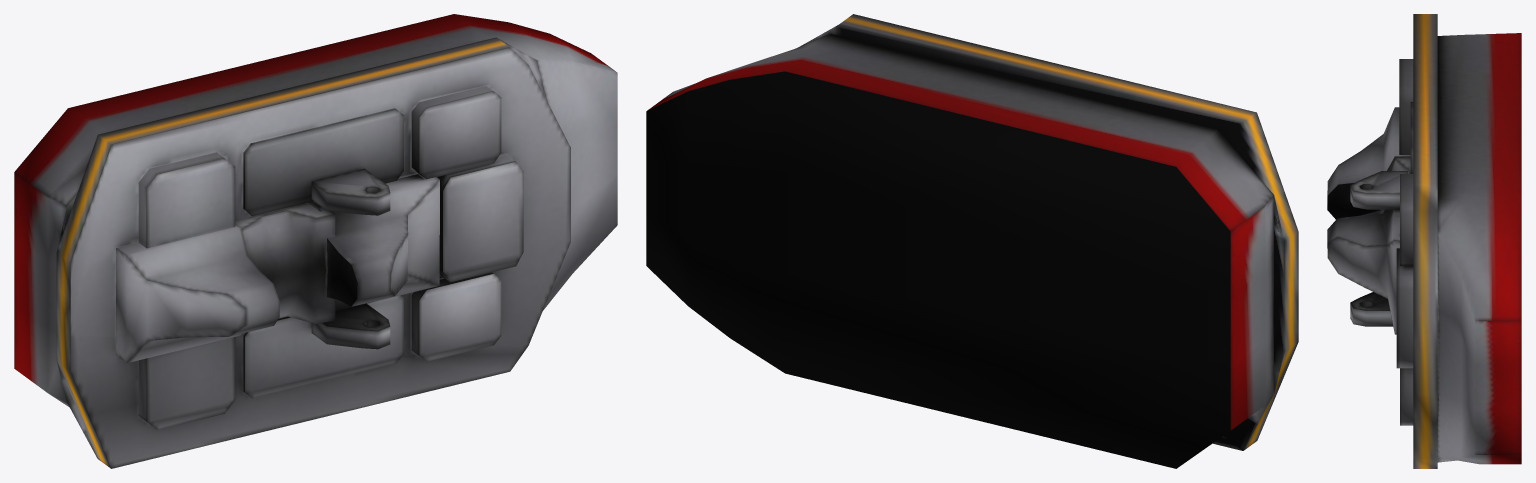
File: r_foot.dae
The picture shows the model from 3 angles, left to right: view 1: azimuth 30°, elevation 25°; view 2: azimuth 150°, elevation 25°; view 3: azimuth 270°, elevation 25°; orthographic projection. The views are drawn at different scales.
Parts seen in each view (by area): view 1: r_foot; view 2: r_foot; view 3: r_foot.
Boxes of the visible parts, <box> form: r_foot: <box>14,14,617,468</box>; r_foot: <box>646,14,1298,468</box>; r_foot: <box>1327,14,1521,468</box>.
Size of the model in its own units: 0.2629 by 0.1398 by 0.0866.
1 material, 1 textured.
